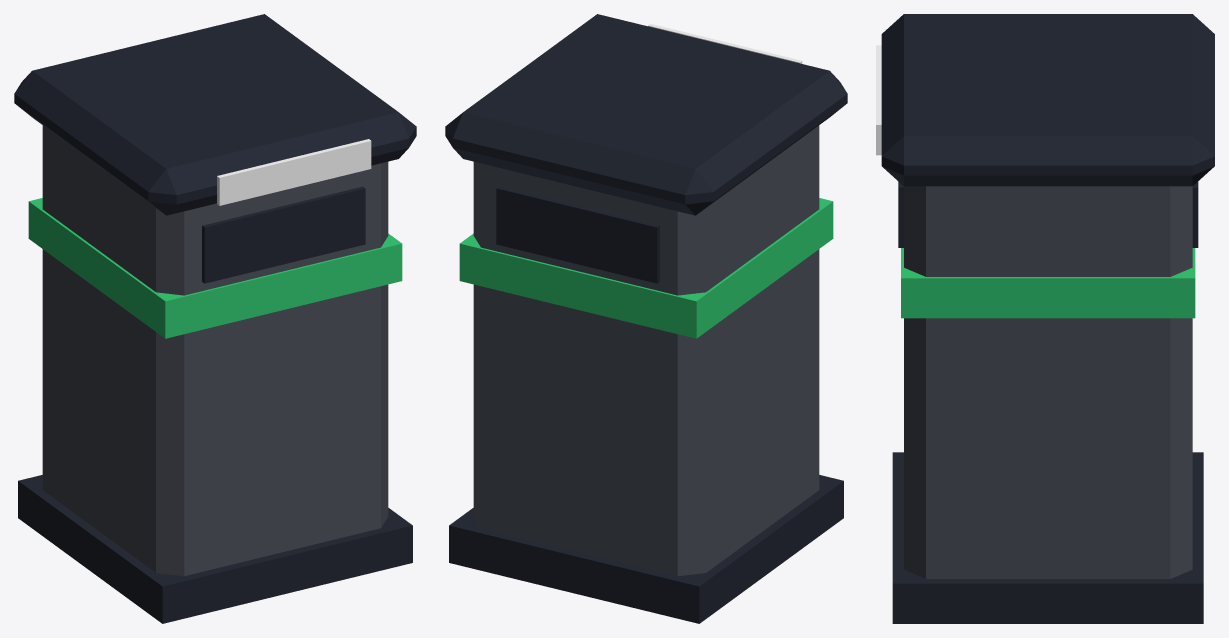
Rendered from bin.glb.
3 views of the same model, side by side, from view 1: azimuth 30°, elevation 25°; view 2: azimuth 150°, elevation 25°; view 3: azimuth 270°, elevation 25° (orthographic). The views are drawn at different scales.
Parts seen in each view (by area): view 1: bin; view 2: bin; view 3: bin.
Part boxes in pixels (x1,y1,x2,y2): bin: (14,14,416,623); bin: (445,14,847,623); bin: (876,14,1214,623).
Size of the model in its own units: 0.6 by 0.96 by 0.61.
